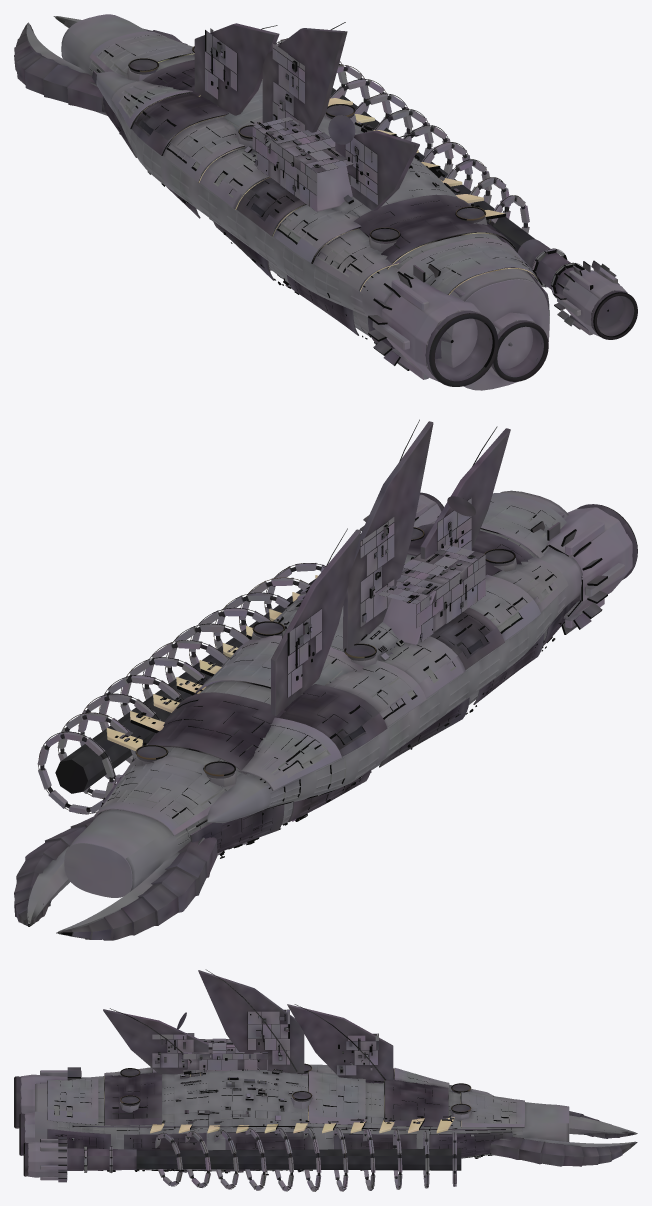
Rendered from eidolon_bastion_hero.glb.
3 renders of one model, top to bottom at view 1: azimuth 30°, elevation 25°; view 2: azimuth 150°, elevation 25°; view 3: azimuth 270°, elevation 25°, orthographic. The views are drawn at different scales.
Visible parts, largest first — view 1: HullBaked; view 2: HullBaked; view 3: HullBaked.
Part boxes in pixels (x1,y1,x2,y2): HullBaked: (14, 14, 637, 390); HullBaked: (14, 419, 637, 940); HullBaked: (14, 969, 637, 1191).
Bounding box in the file's own units: 898 × 957 × 2942.
Materials: 1 (1 with a texture image).
